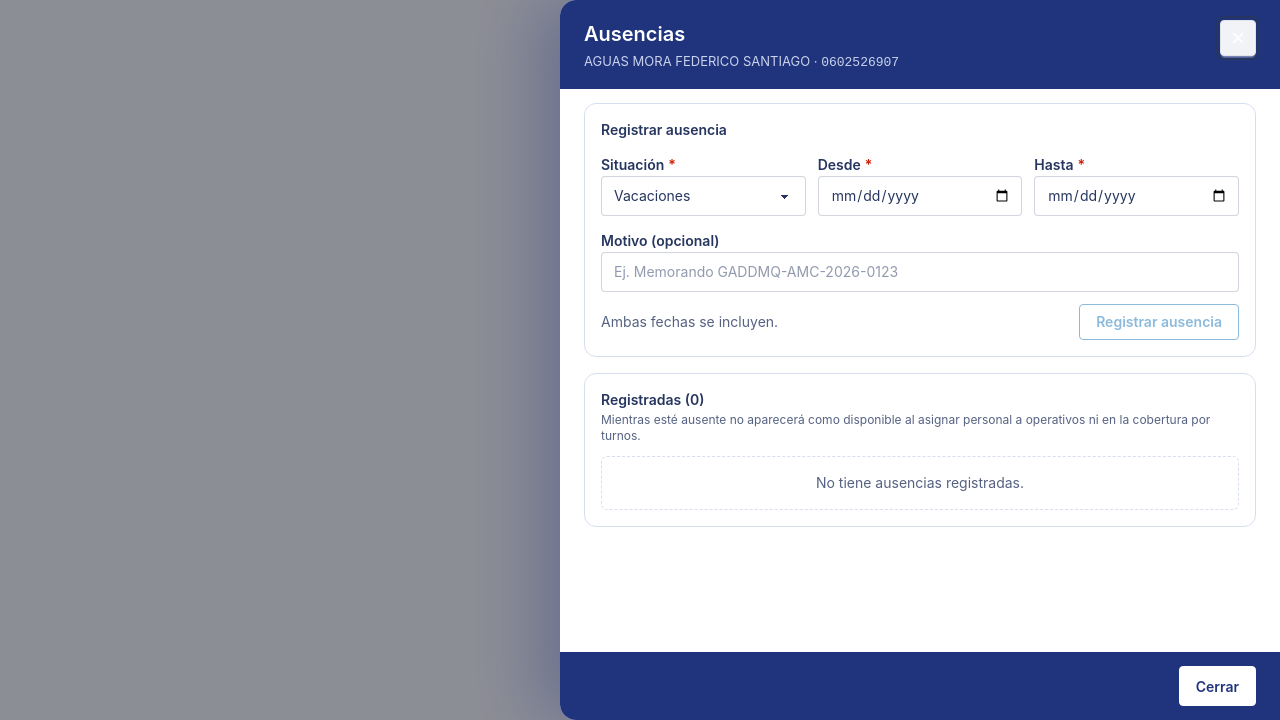
Scenario: Ausencias · tras registrar › si se registró, el formulario vuelve a vacío
In the date field labelled "Desde*": {"x": 920, "y": 196} [818,176,1022,216], type "2026-10-01"
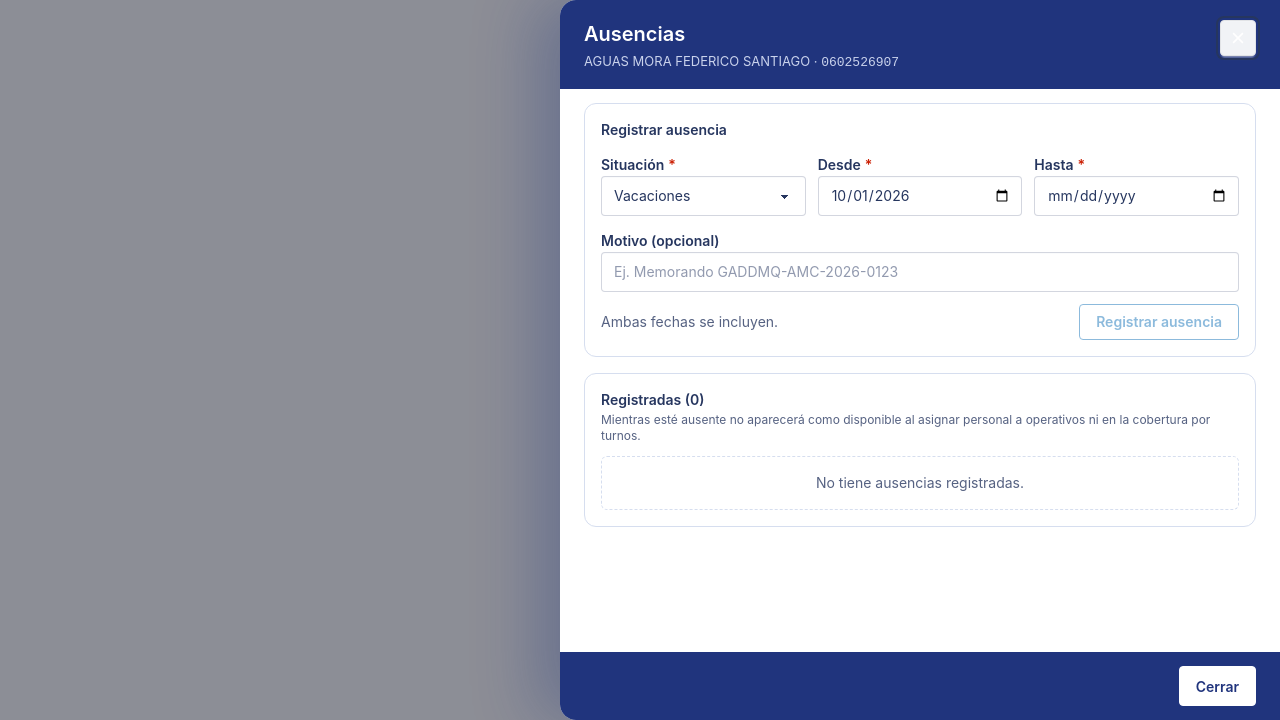
In the date field labelled "Hasta*": {"x": 1137, "y": 196} [1034,176,1239,216], type "2026-10-02"
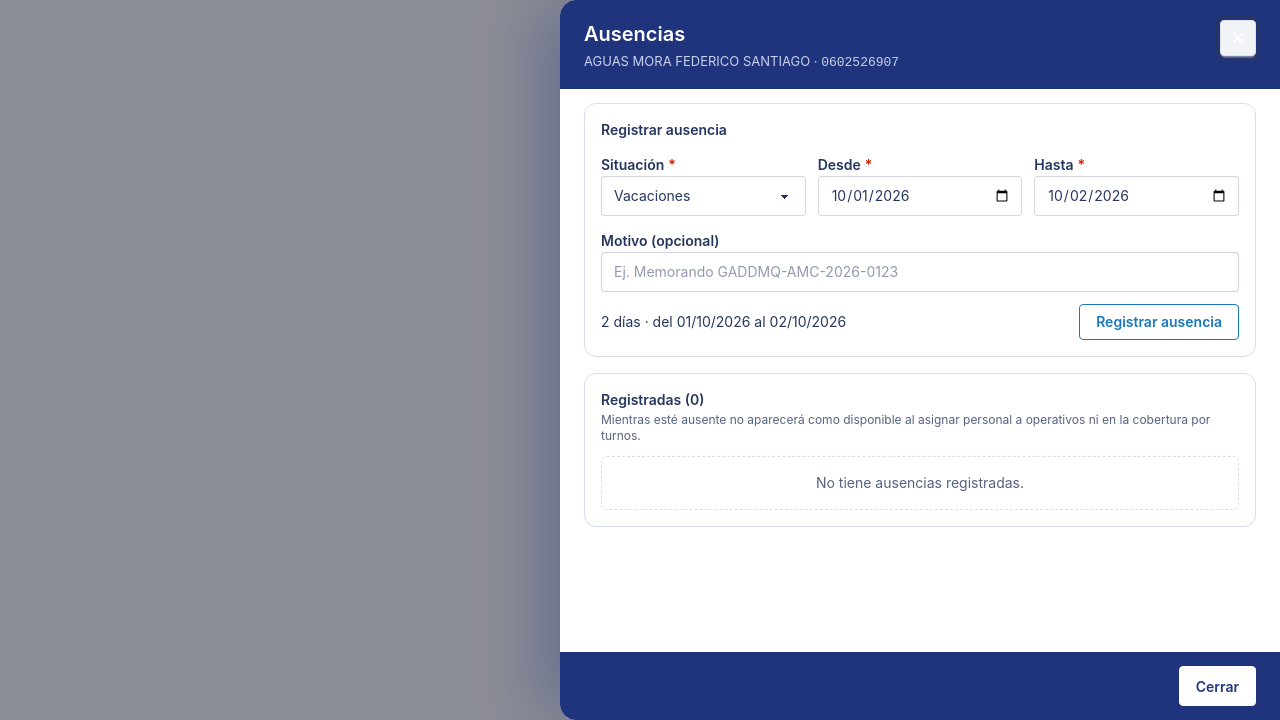
Click the button "Registrar ausencia": {"x": 1159, "y": 322} [1079,304,1239,340]
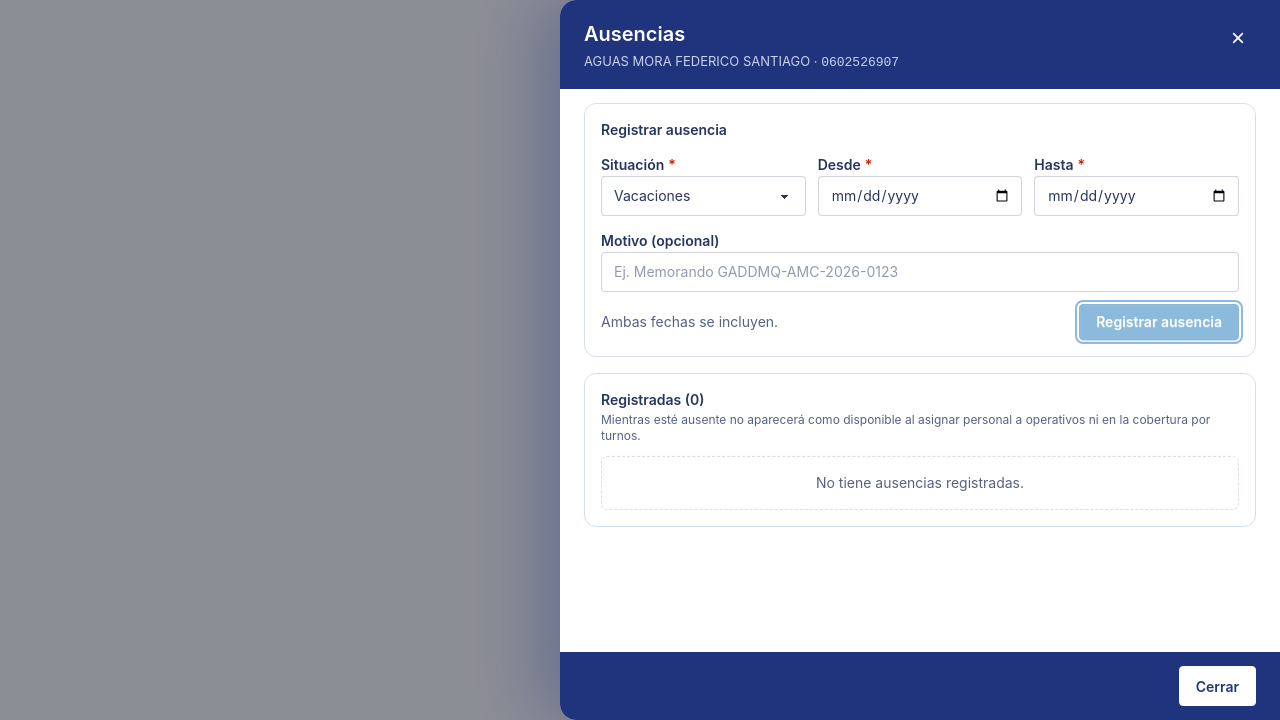
Now the text "Ambas fechas se incluyen." is shown, box [601,312,778,330]
